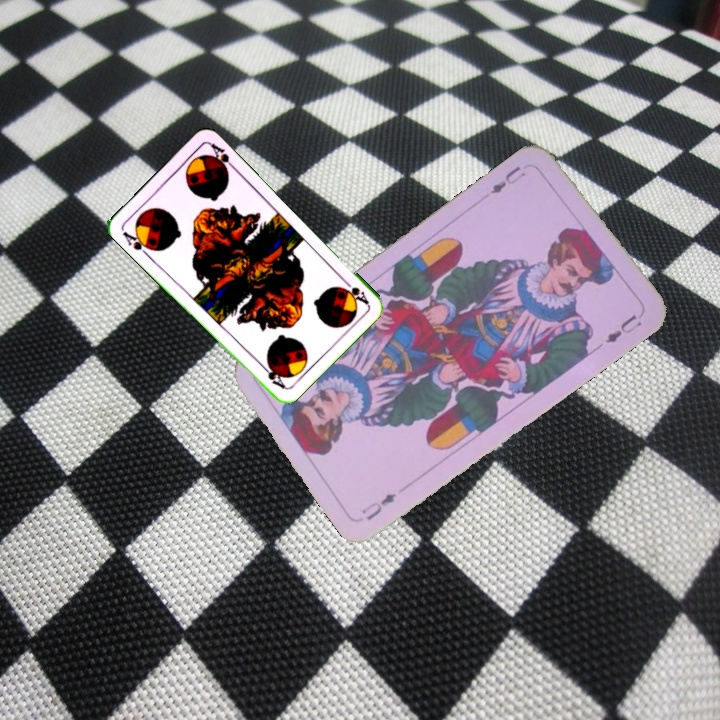EU: (485, 162, 528, 197), (357, 489, 399, 523)
SA: (118, 226, 156, 259), (336, 274, 371, 307)
